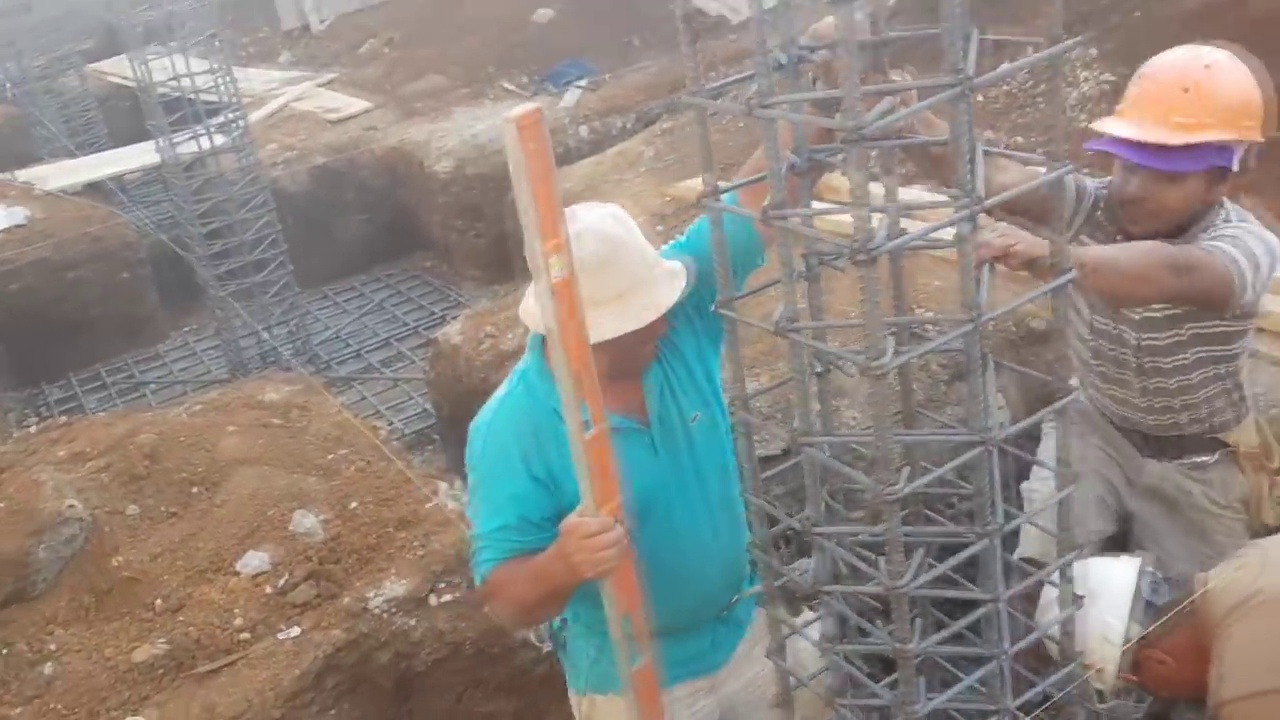helmet: (1096, 41, 1280, 170), (1035, 546, 1153, 699)
helmet-off: (1087, 24, 1273, 245), (530, 207, 686, 393)
helmet-on: (1034, 540, 1226, 710)
person: (808, 5, 1280, 711), (448, 139, 786, 720), (1030, 545, 1280, 720)
